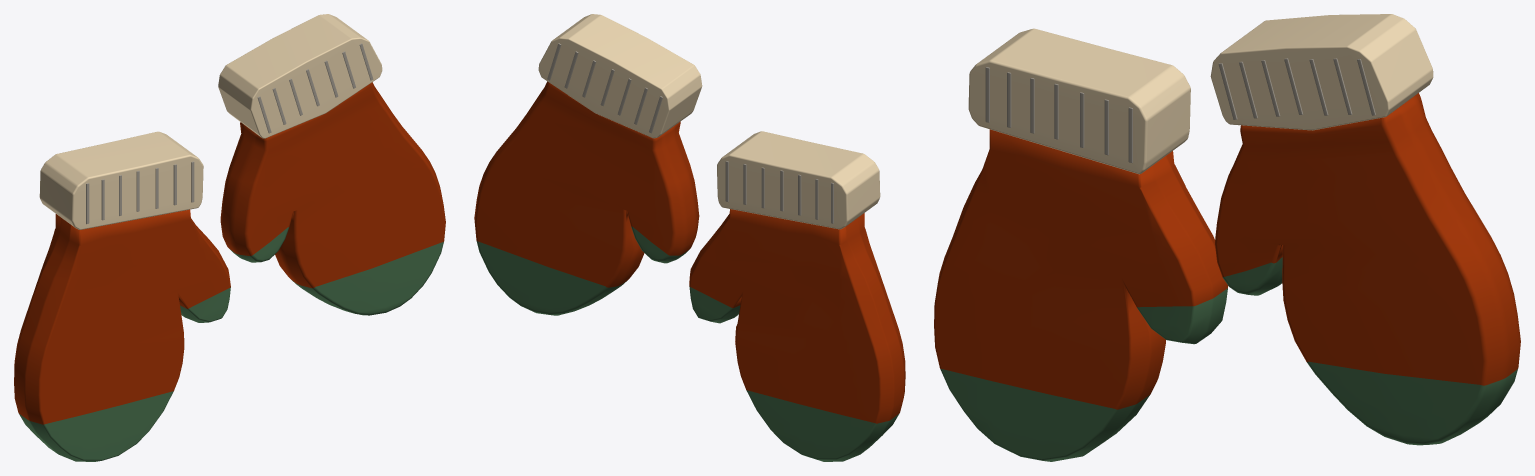
File: mitaine.fbx
3 renders of one model, left to right at view 1: azimuth 30°, elevation 25°; view 2: azimuth 150°, elevation 25°; view 3: azimuth 330°, elevation 25°, orthographic. The views are drawn at different scales.
Parts seen in each view (by area): view 1: Mitaine; view 2: Mitaine; view 3: Mitaine.
Boxes of the visible parts, box(x1,y1,x2,y2) form: Mitaine: box(14, 14, 445, 461); Mitaine: box(474, 14, 905, 461); Mitaine: box(934, 14, 1520, 461).
Size of the model in its own units: 1.42 by 1.2 by 0.201.
